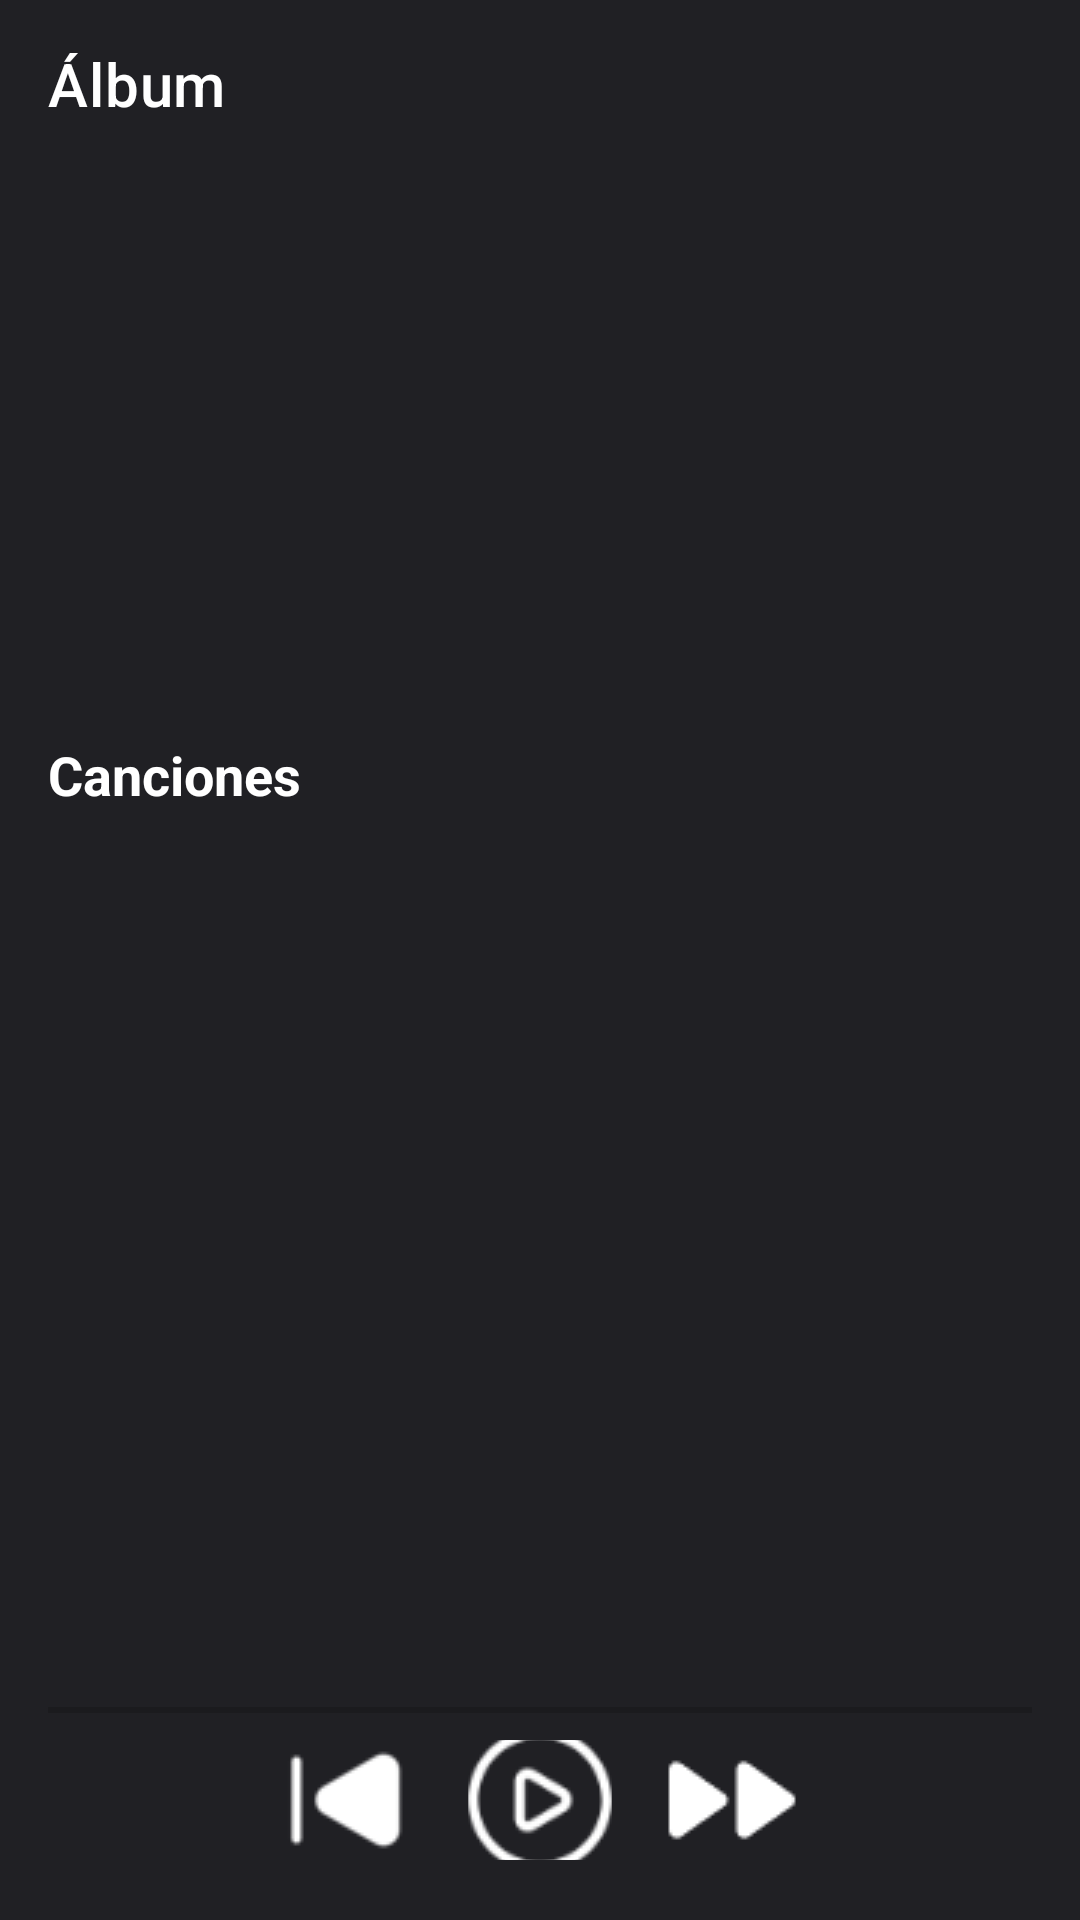

Point at icon controls on the screen. Image size 1080×1920, points as (x=x, y=y).
play: (x=540, y=1800)
skip next: (x=732, y=1800)
skip previous: (x=346, y=1800)
